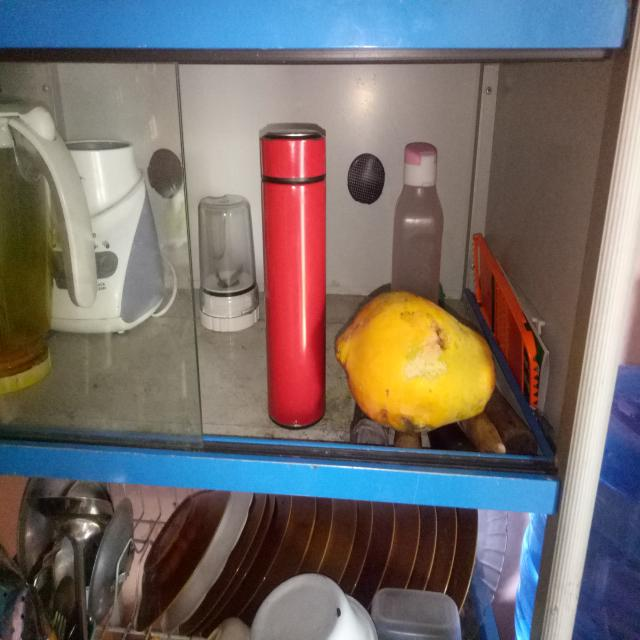Pepaya rippen: (326, 277, 495, 431)
